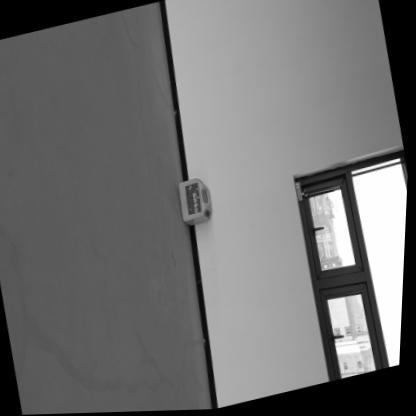DDL: (176, 177, 217, 229)
